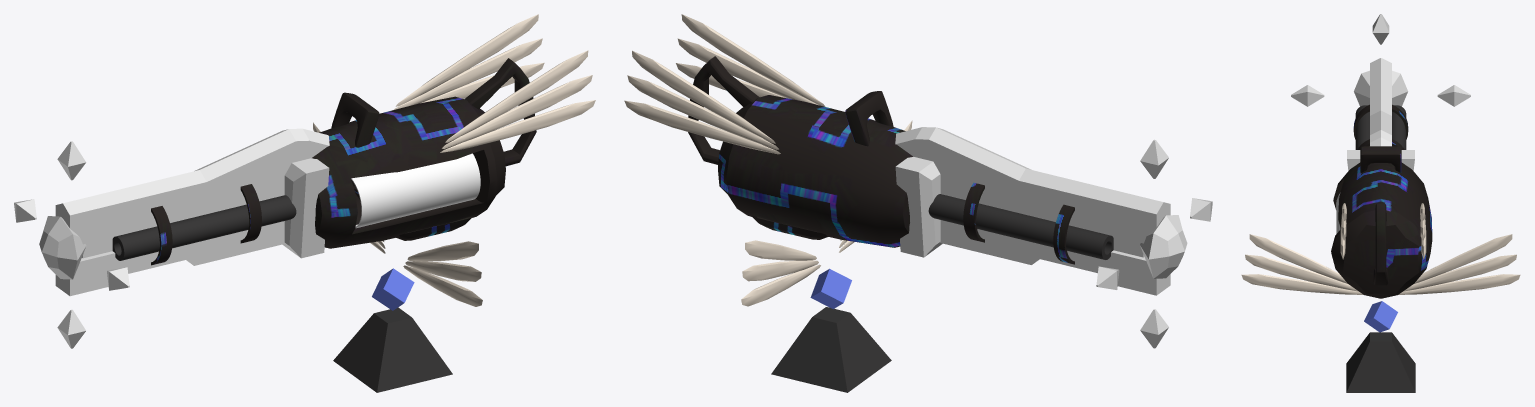
File: railgun.fbx
3 views of the same model, side by side, from view 1: azimuth 30°, elevation 25°; view 2: azimuth 150°, elevation 25°; view 3: azimuth 270°, elevation 25° (orthographic). The views are drawn at different scales.
Parts seen in each view (by area): view 1: Gun, Cube.002, Turret Base, Gun.001, Cube.003, Cube.001, Wings, Cube.005, Cube.006, Cube, Cube.007; view 2: Gun, Cube.002, Turret Base, Gun.001, Cube.003, Cube.001, Wings, Cube.005, Cube.006, Cube, Cube.007; view 3: Gun, Wings, Turret Base, Cube.002, Gun.001, Cube.005, Cube.007, Cube, Cube.001, Cube.006.
Part boxes in pixels (bbox=[...]): Gun: bbox=[312, 14, 595, 248]; Cube.002: bbox=[55, 128, 329, 244]; Turret Base: bbox=[333, 307, 452, 392]; Gun.001: bbox=[112, 184, 296, 265]; Cube.003: bbox=[55, 221, 285, 296]; Cube.001: bbox=[282, 158, 329, 258]; Wings: bbox=[313, 122, 482, 306]; Cube.005: bbox=[39, 216, 86, 279]; Cube.006: bbox=[57, 141, 85, 348]; Cube: bbox=[372, 268, 414, 310]; Cube.007: bbox=[14, 199, 129, 290]; Gun: bbox=[624, 14, 913, 247]; Cube.002: bbox=[895, 127, 1170, 243]; Turret Base: bbox=[771, 307, 891, 392]; Gun.001: bbox=[928, 182, 1113, 264]; Cube.003: bbox=[939, 220, 1170, 295]; Cube.001: bbox=[895, 156, 942, 257]; Wings: bbox=[741, 120, 912, 306]; Cube.005: bbox=[1140, 215, 1187, 278]; Cube.006: bbox=[1140, 139, 1168, 348]; Cube: bbox=[810, 268, 851, 309]; Cube.007: bbox=[1096, 198, 1212, 289]; Gun: bbox=[1331, 146, 1432, 298]; Wings: bbox=[1241, 234, 1520, 294]; Turret Base: bbox=[1346, 332, 1415, 392]; Cube.002: bbox=[1370, 58, 1391, 146]; Gun.001: bbox=[1353, 104, 1408, 149]; Cube.005: bbox=[1354, 70, 1407, 106]; Cube.007: bbox=[1291, 85, 1470, 106]; Cube: bbox=[1364, 301, 1397, 332]; Cube.001: bbox=[1347, 150, 1414, 170]; Cube.006: bbox=[1372, 14, 1389, 44].
Bounding box in the file's own units: 363 × 199 × 209.
